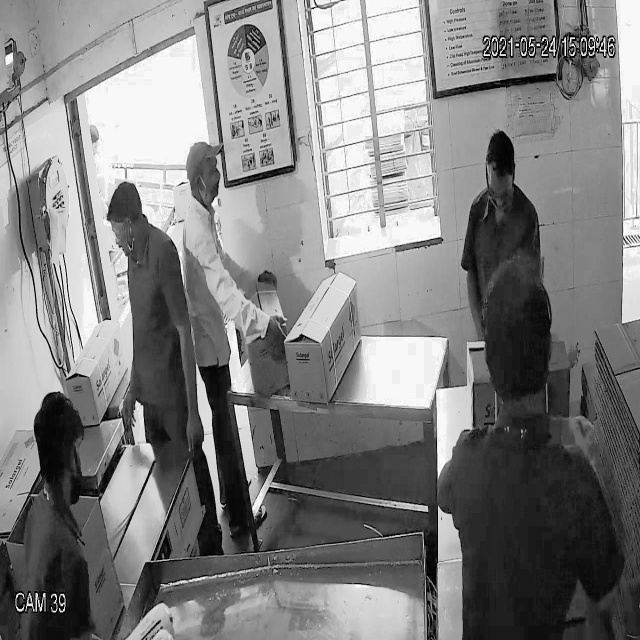Sin_gafas: (184, 153, 222, 181)
